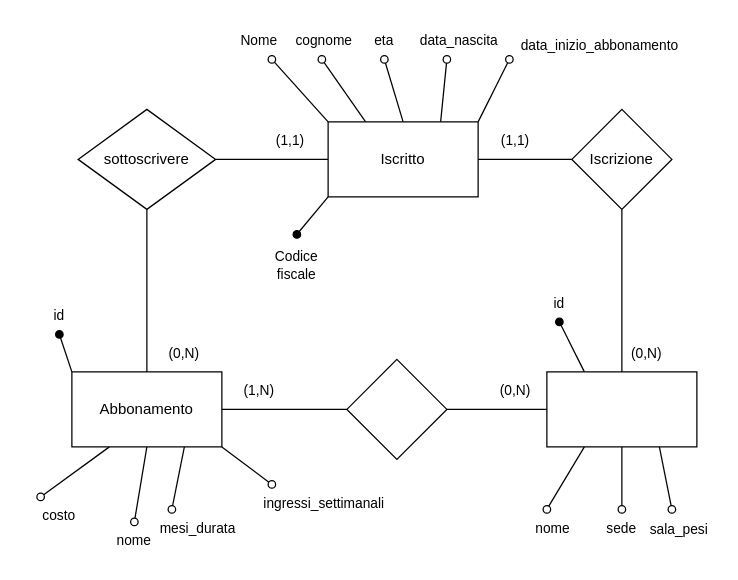
Image size: 738x580. Some labels were removed from this diagram. Here are the shapes that lost their labels. From the top down, the centre of each, then its label:
At point (396, 408): "Appartiene".
At point (621, 409): "Palestra".
